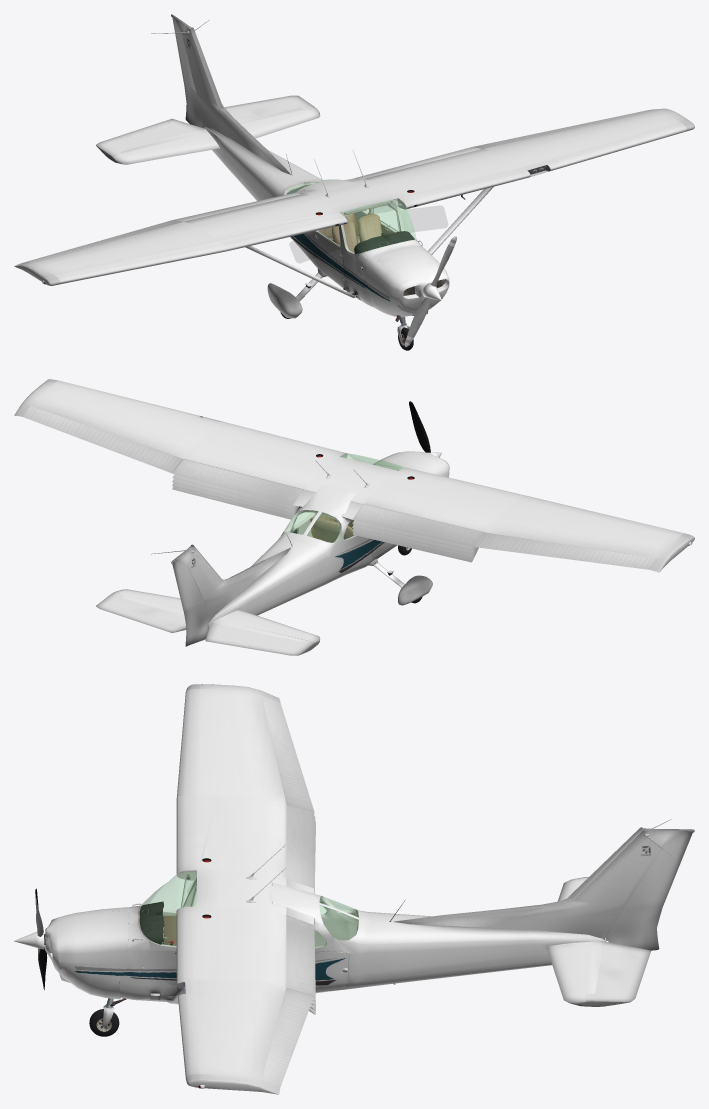
The model's file is custom_callsign_2.gltf.
3 renders of one model, top to bottom at view 1: azimuth 30°, elevation 25°; view 2: azimuth 150°, elevation 25°; view 3: azimuth 270°, elevation 25°, orthographic. The views are drawn at different scales.
Parts seen in each view (by area): view 1: Exterior, XLive_6, XLive_0, XLive_5, Pose_flaps_0, XLive_8, XLive_9; view 2: Exterior, Pose_flaps_0, XLive_9, XLive_8, XLive_0, XLive_5, XLive_6, Pose_flaps_1, Pose_flaps_2, Pose_flaps_3, Pose_flaps_4; view 3: Exterior, XLive_0, Pose_flaps_0, XLive_5, XLive_8, XLive_9.
Part boxes in pixels (x1=…): Exterior: x1=14, y1=19, x2=694, y2=350; XLive_6: x1=96, y1=118, x2=203, y2=160; XLive_0: x1=171, y1=14, x2=204, y2=128; XLive_5: x1=224, y1=95, x2=315, y2=120; Pose_flaps_0: x1=173, y1=147, x2=482, y2=221; XLive_8: x1=473, y1=109, x2=655, y2=148; XLive_9: x1=24, y1=220, x2=183, y2=262; Exterior: x1=14, y1=379, x2=694, y2=646; Pose_flaps_0: x1=173, y1=459, x2=482, y2=546; XLive_9: x1=472, y1=532, x2=656, y2=569; XLive_8: x1=23, y1=406, x2=183, y2=473; XLive_0: x1=171, y1=549, x2=209, y2=646; XLive_5: x1=96, y1=592, x2=186, y2=632; XLive_6: x1=205, y1=623, x2=315, y2=655; Pose_flaps_1: x1=172, y1=474, x2=474, y2=550; Pose_flaps_2: x1=172, y1=478, x2=476, y2=554; Pose_flaps_3: x1=172, y1=482, x2=477, y2=558; Pose_flaps_4: x1=172, y1=486, x2=478, y2=562; Exterior: x1=14, y1=684, x2=671, y2=1094; XLive_0: x1=604, y1=829, x2=694, y2=950; Pose_flaps_0: x1=286, y1=803, x2=314, y2=995; XLive_5: x1=586, y1=941, x2=650, y2=1006; XLive_8: x1=261, y1=988, x2=314, y2=1087; XLive_9: x1=261, y1=695, x2=314, y2=811.
Size of the model in its own units: 11.32 by 2.77 by 8.17.
Materials: 145 (135 with a texture image).
